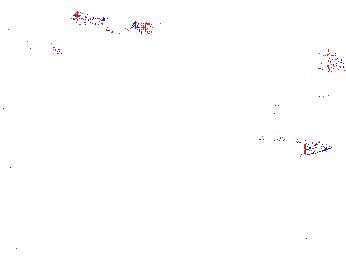X-ray fish: (305, 51, 346, 74), (266, 94, 285, 115)
glassfish: (215, 126, 333, 160)
red belly glassfish: (315, 91, 340, 104)
redtail glassfish: (3, 17, 68, 56), (71, 9, 153, 39), (282, 34, 344, 55)
